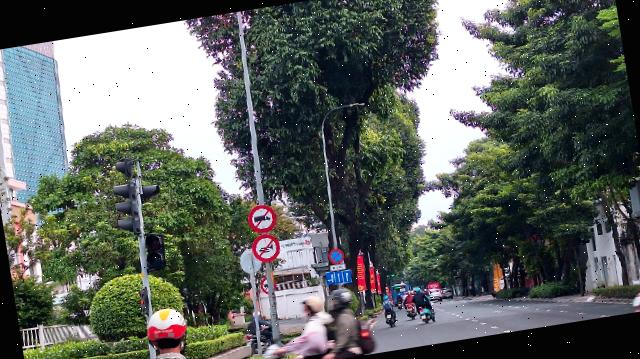cam-bop-coi: (250, 232, 282, 264)
cam-do-xe: (328, 247, 346, 265)
